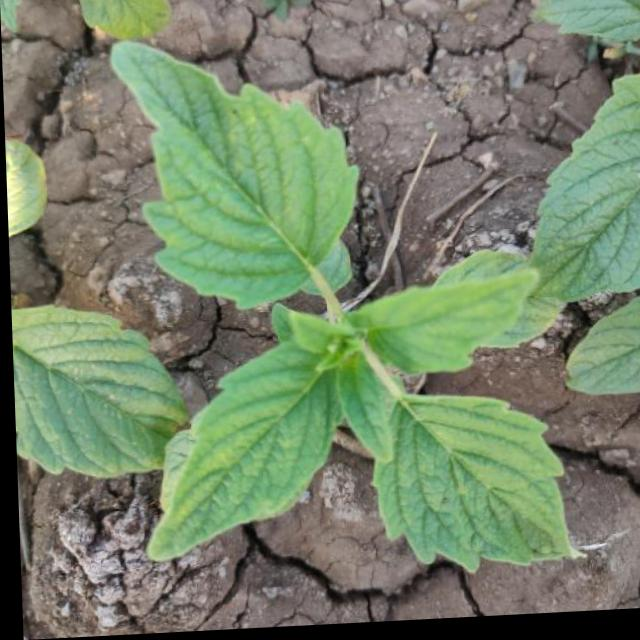crop: (99, 22, 579, 591)
